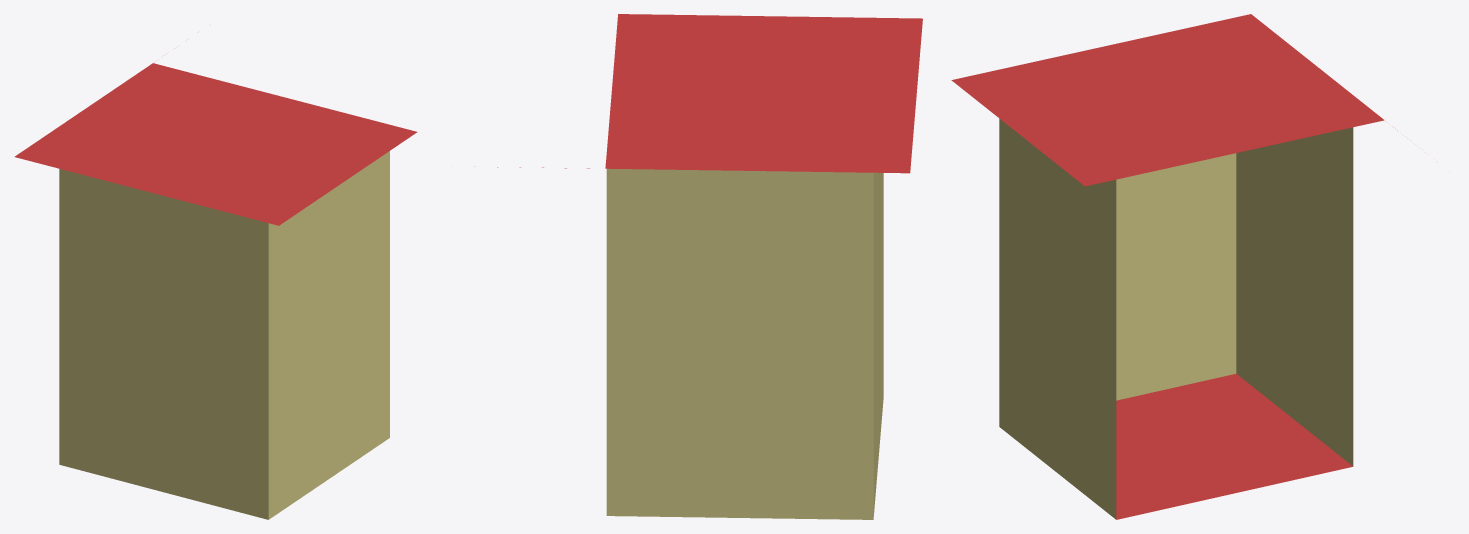
The picture shows the model from 3 angles, left to right: view 1: azimuth 30°, elevation 25°; view 2: azimuth 150°, elevation 25°; view 3: azimuth 270°, elevation 25°; orthographic projection. The views are drawn at different scales.
Size of the model in its own units: 5.77 by 7.08 by 5.28.
